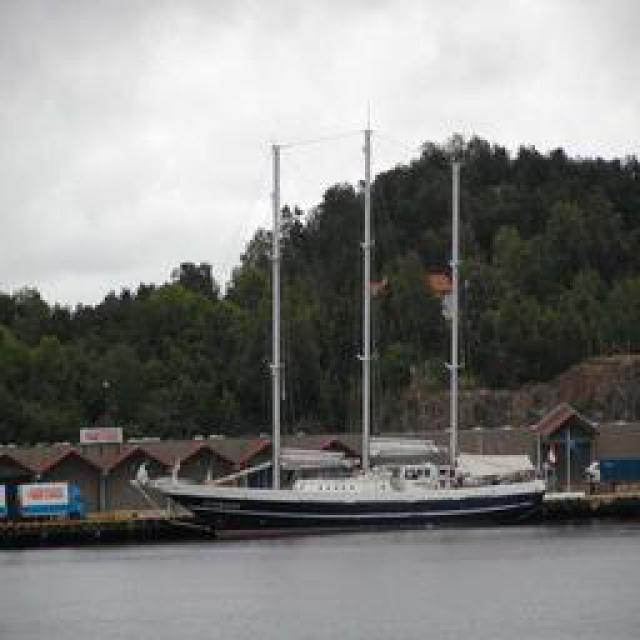Ship: (143, 443, 551, 531)
